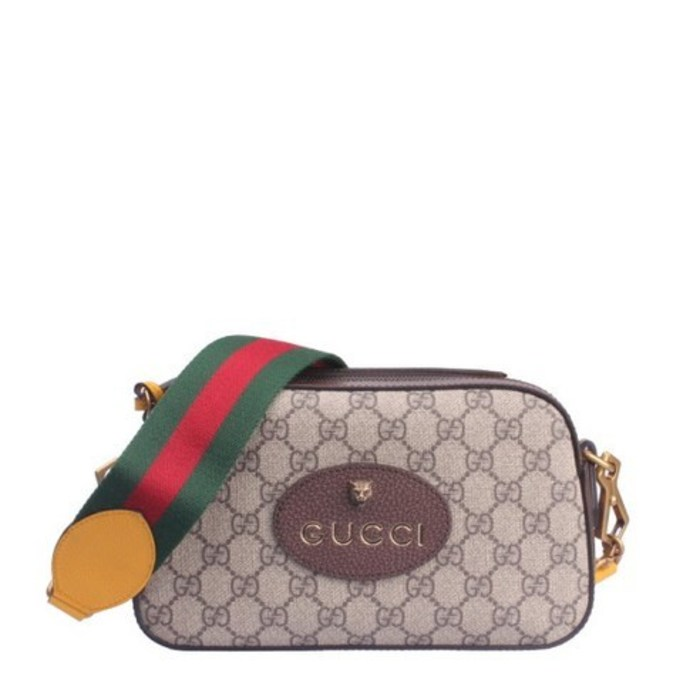Gucci: (49, 348, 625, 661), (70, 324, 276, 549), (302, 396, 534, 465), (280, 513, 480, 585)
